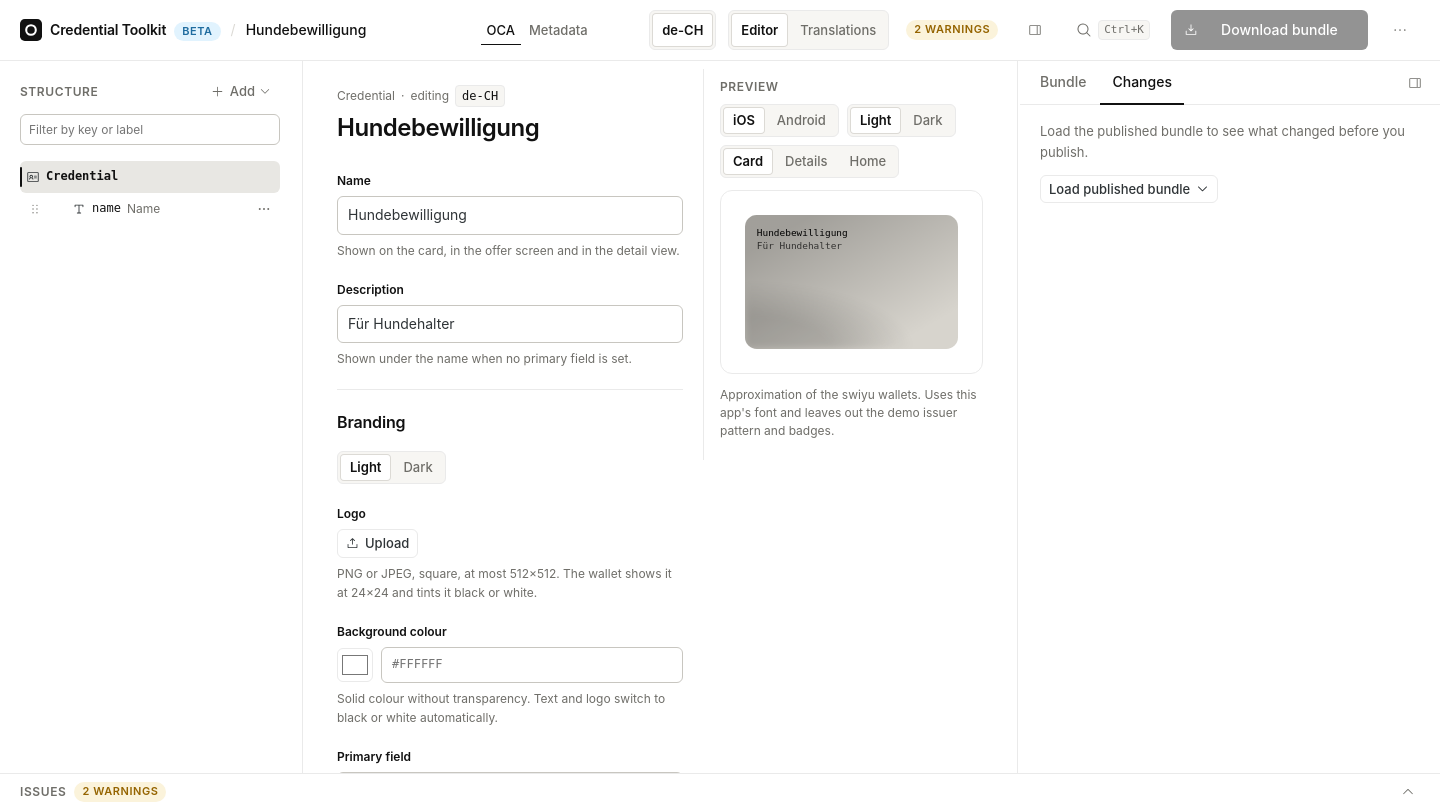
Test: Hosting and the sample credential › switches to the Bundle tab to go to a hosting issue
Expected: the field labelled "At a URL I host" is not shown
# Warnings only: the panel opens collapsed to its header.
Click the button named "Expand issues".
click(1408, 792)  # box [1396,780,1420,804]
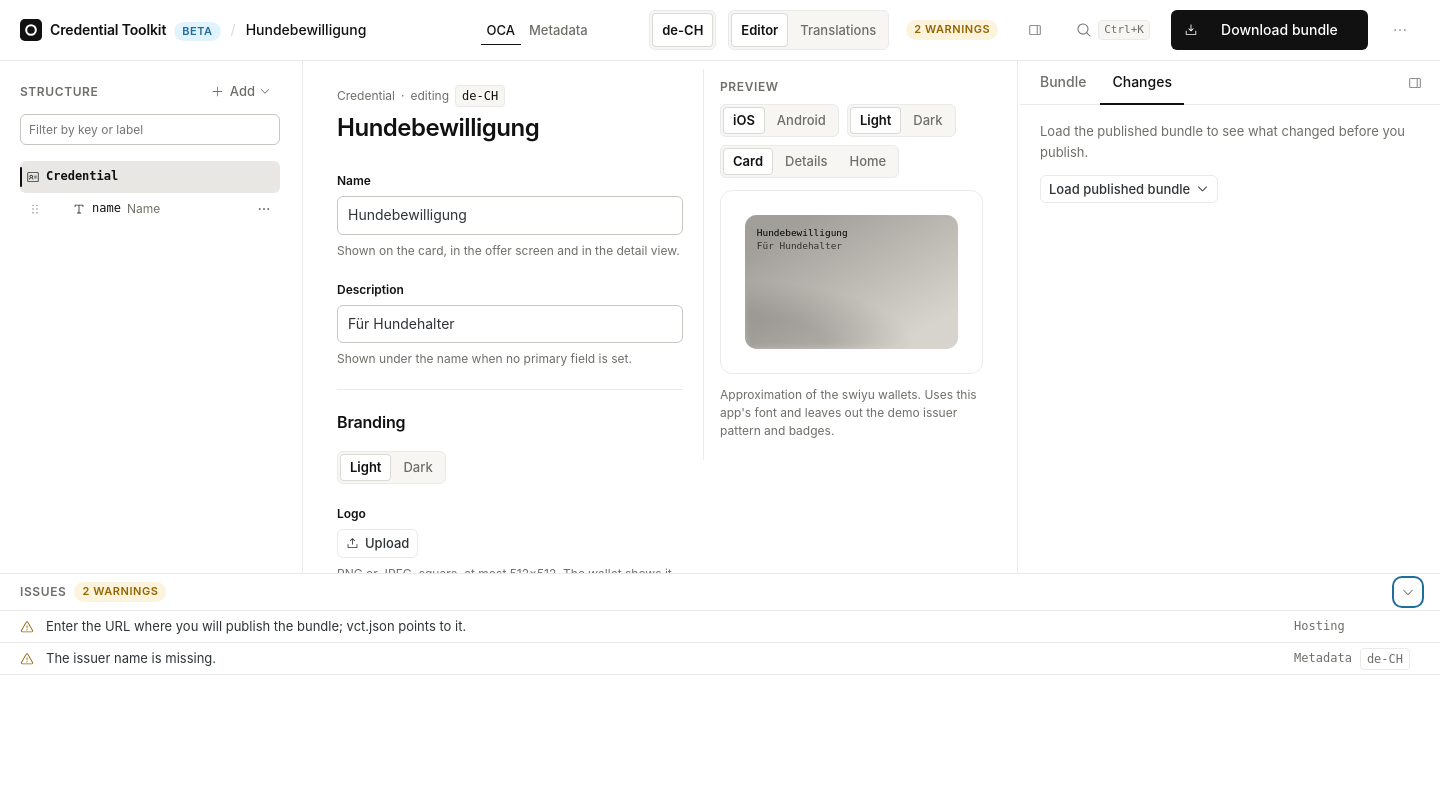
Click the button "Enter the URL where you will publish the bundle".
click(256, 626)  # box [46,616,1284,637]
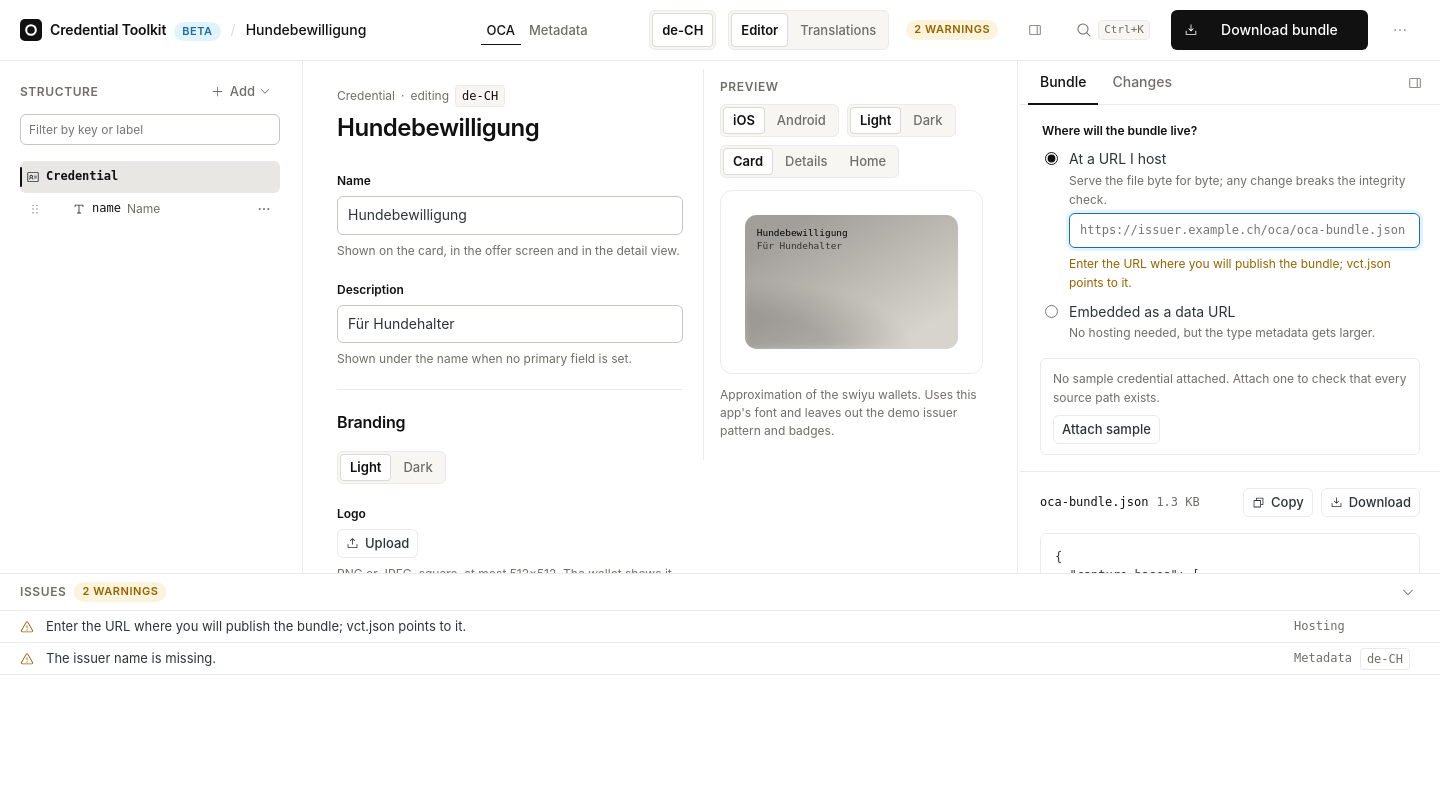
Expected: the field named "At a URL I host" is shown, [1069,213,1420,248]
